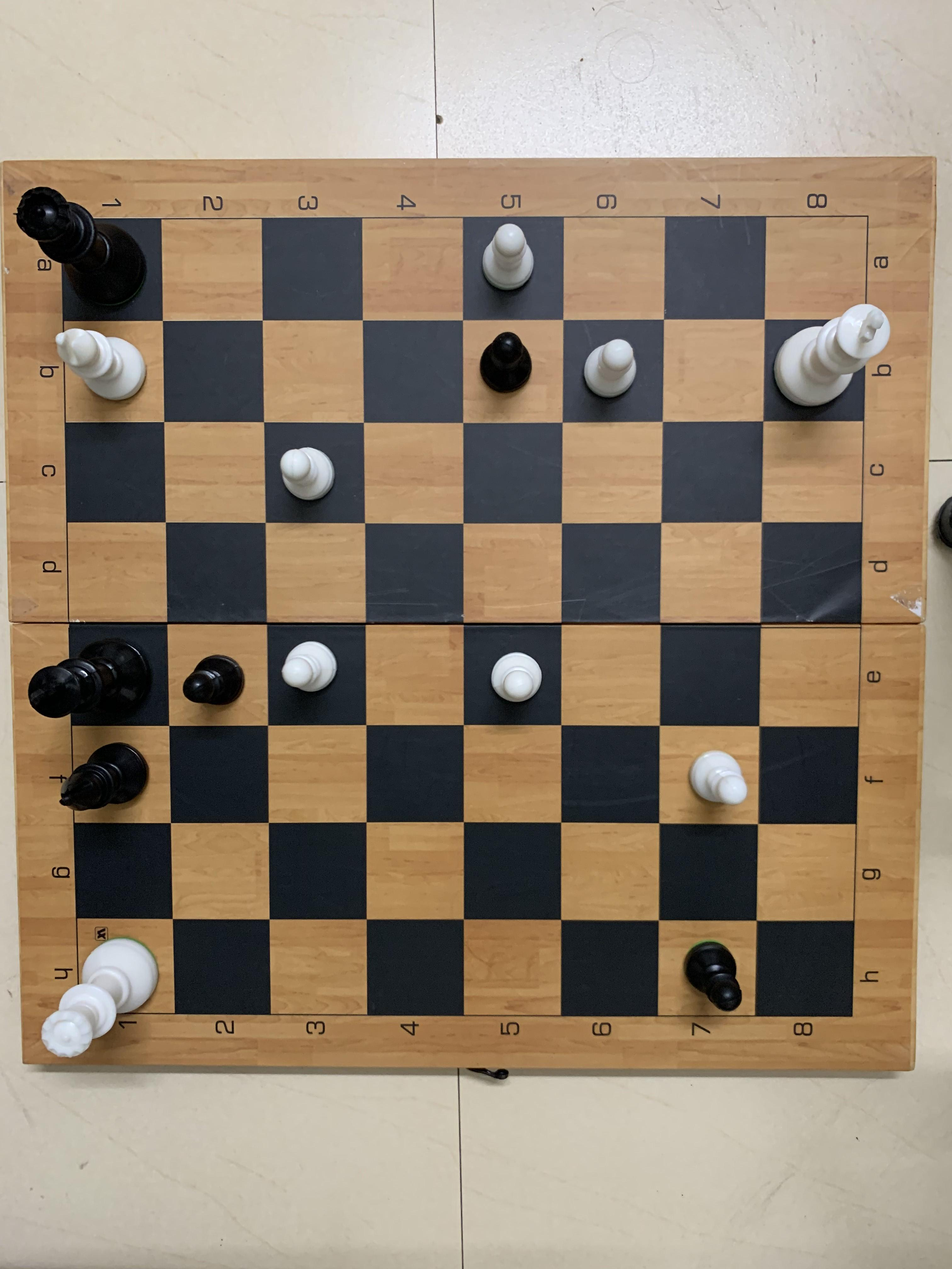black_bishop: (47, 730, 167, 834)
black_king: (22, 625, 168, 739)
black_pawn: (173, 631, 265, 723), (672, 927, 760, 1023), (471, 318, 555, 406)
black_queen: (9, 170, 137, 312)
white_bishop: (41, 310, 163, 417)
white_king: (767, 296, 906, 416)
white_pawn: (661, 719, 765, 822), (460, 622, 564, 723), (564, 312, 662, 412), (271, 623, 363, 723), (463, 219, 556, 309), (257, 422, 351, 507)
white_queen: (31, 927, 163, 1063)
